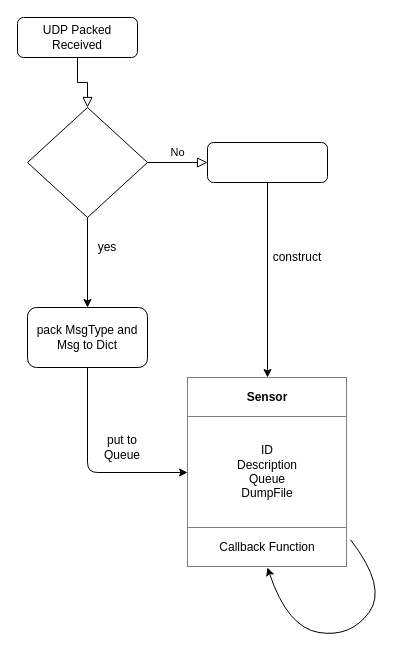
The diagram is 393 pixels wide and 651 high, and some of its shapes have lost their labels. The shapes that lost their labels are listed below. From the top down, each one's centre as x and y in pixels, then its label:
At (x=87, y=162): "Sensor ID has sent before".
At (x=267, y=162): "Create New Sensor Instance".
